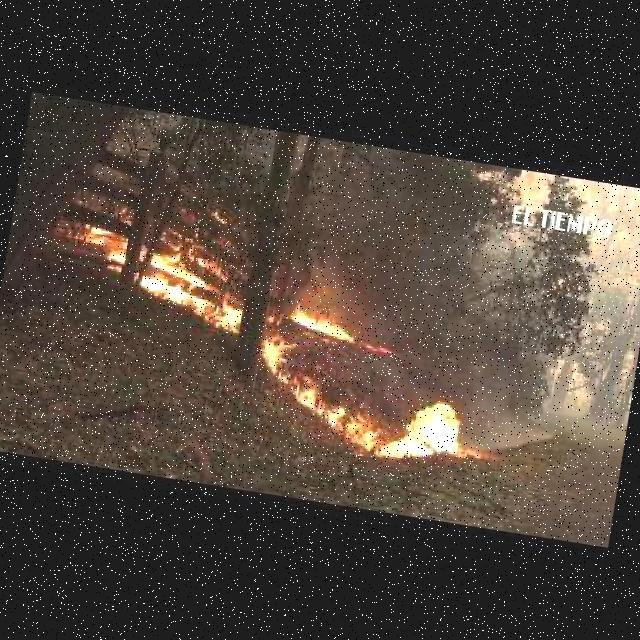Fire: (285, 375, 469, 466), (141, 243, 253, 332), (76, 220, 130, 271), (286, 304, 358, 342), (259, 330, 298, 382), (366, 340, 398, 357), (210, 206, 230, 225), (119, 206, 134, 226)
